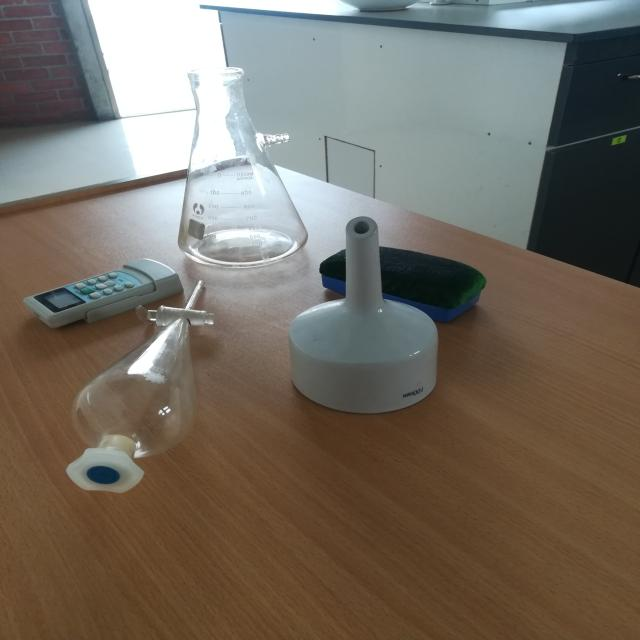Buchner_Funnel: (291, 211, 449, 421)
Conical_Flask: (138, 48, 323, 275)
Separating_Funnel: (37, 256, 225, 532)
